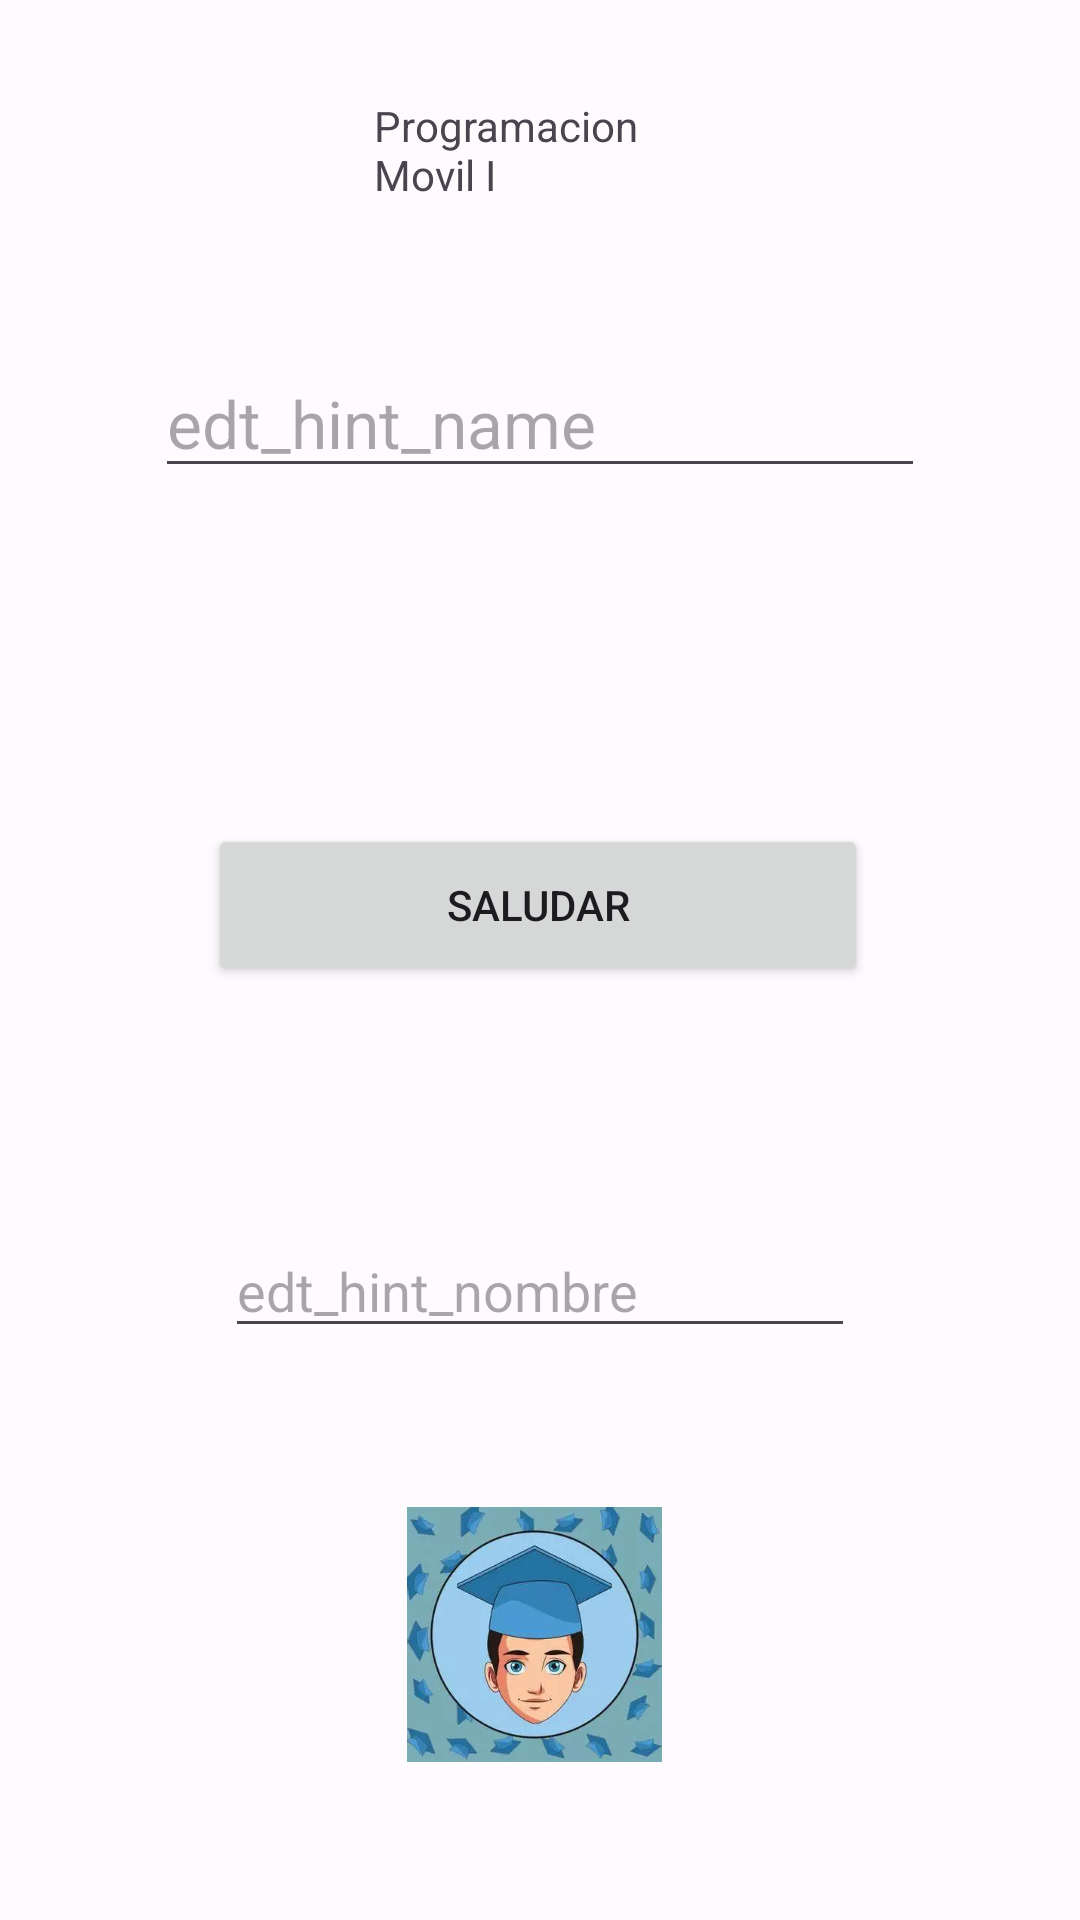

Point at icon controls on the screen. Image size 1080*1920, points as (x=x, y=y).
alumno: (x=534, y=1634)
